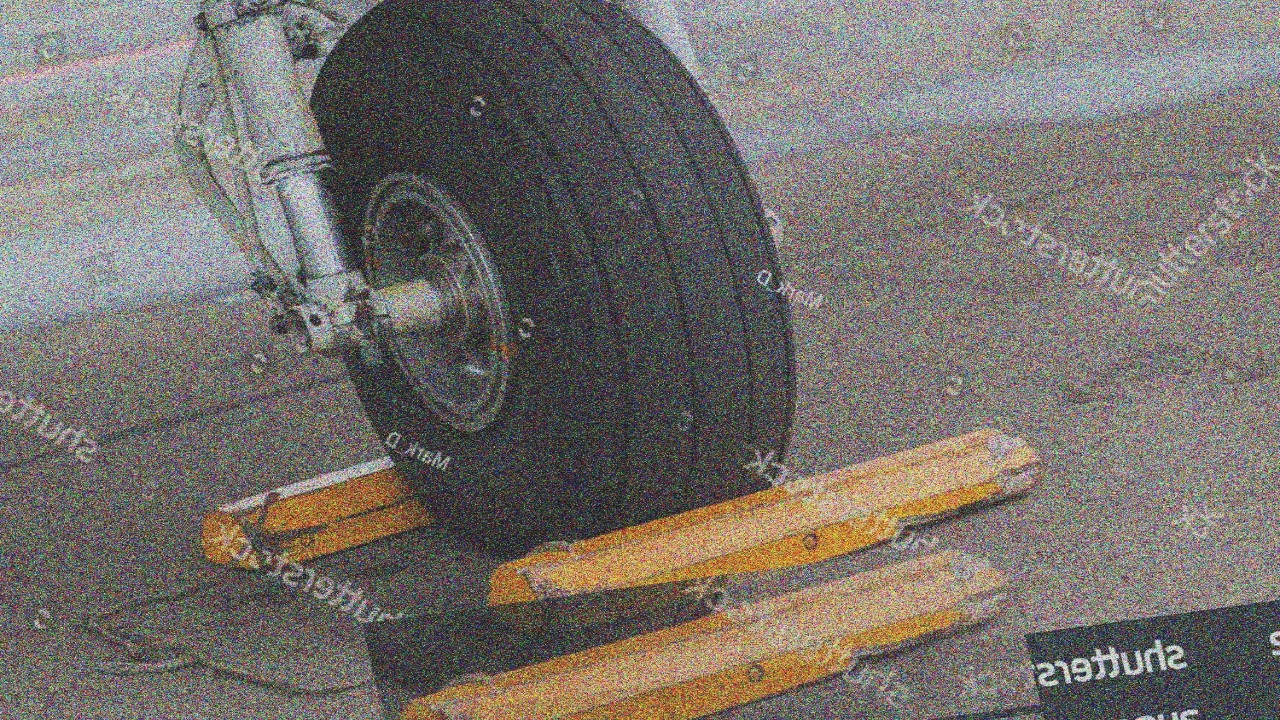chock: (453, 418, 1069, 647), (362, 537, 1041, 720), (183, 425, 609, 582)
wheel: (283, 0, 841, 576)
